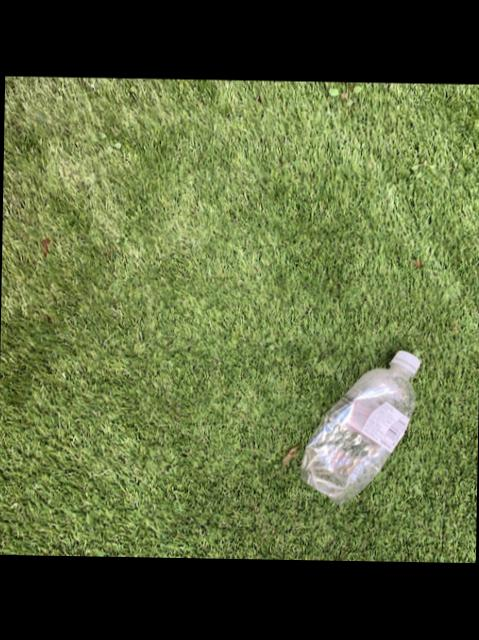plastic: (301, 350, 419, 502)
